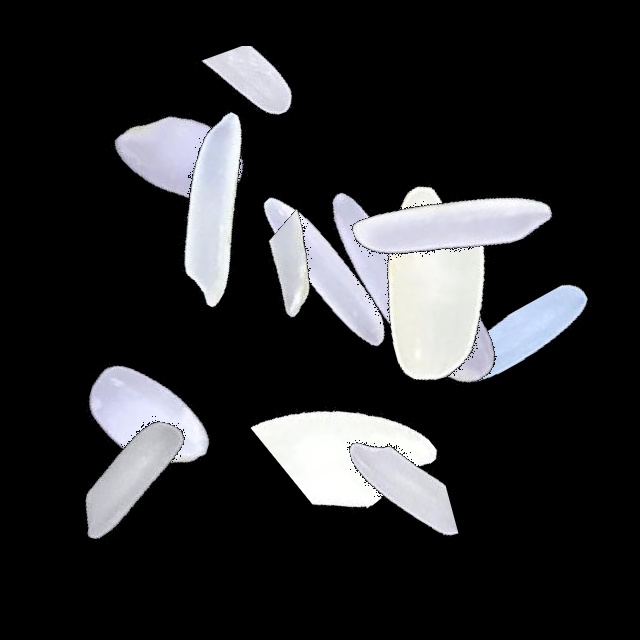Broken: (236, 341, 486, 513), (241, 417, 491, 577), (475, 250, 621, 500), (129, 46, 379, 188), (268, 137, 384, 387), (61, 178, 311, 259)
Full: (59, 31, 309, 281), (202, 145, 452, 395), (252, 147, 502, 397), (321, 210, 571, 460), (91, 83, 341, 333), (26, 292, 276, 542), (308, 155, 558, 405), (330, 101, 580, 351), (8, 357, 258, 607)
